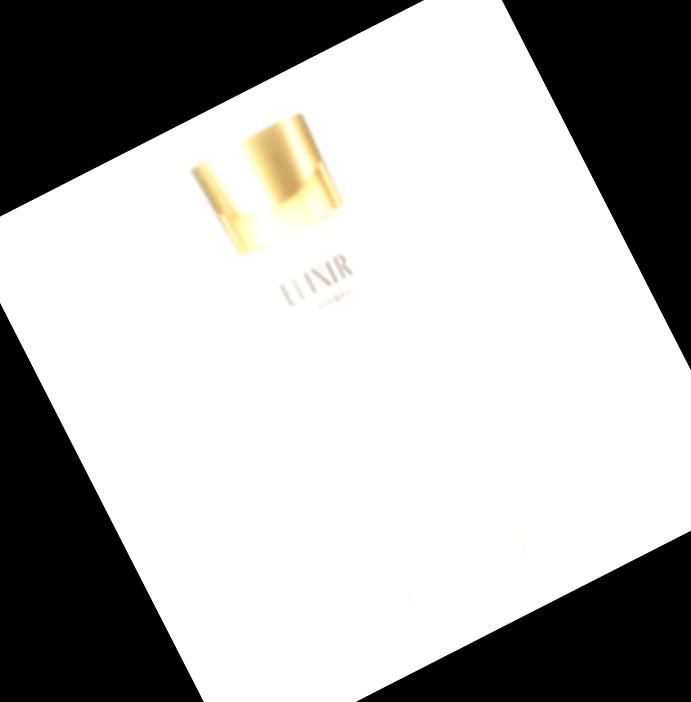cosmetic: (189, 106, 534, 617)
